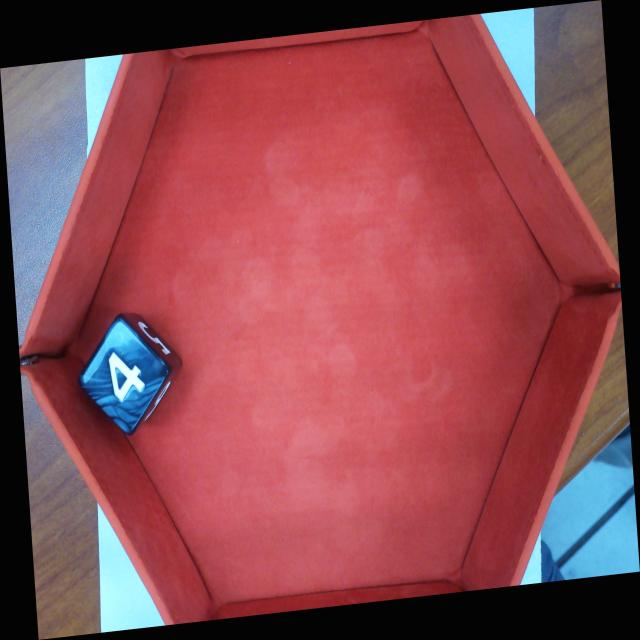dice: (74, 312, 170, 437)
